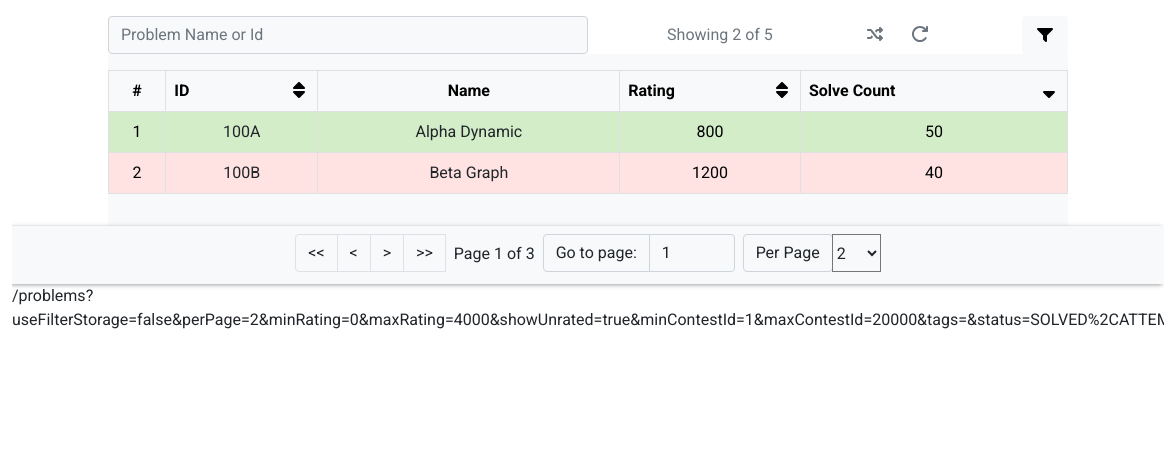
Scenario: next, last, first, and page size controls preserve row numbering
Click the button ">" at (387, 253), box 370,234 -> 404,272
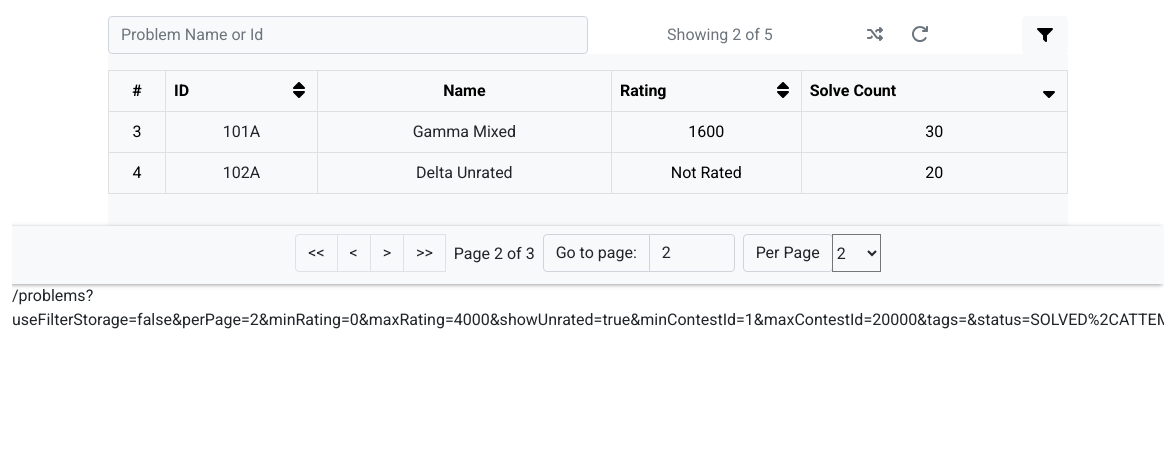
Expected: the cell "3" is shown, 108,112 -> 166,152
Click the button ">>" at (424, 253), box 403,234 -> 446,272
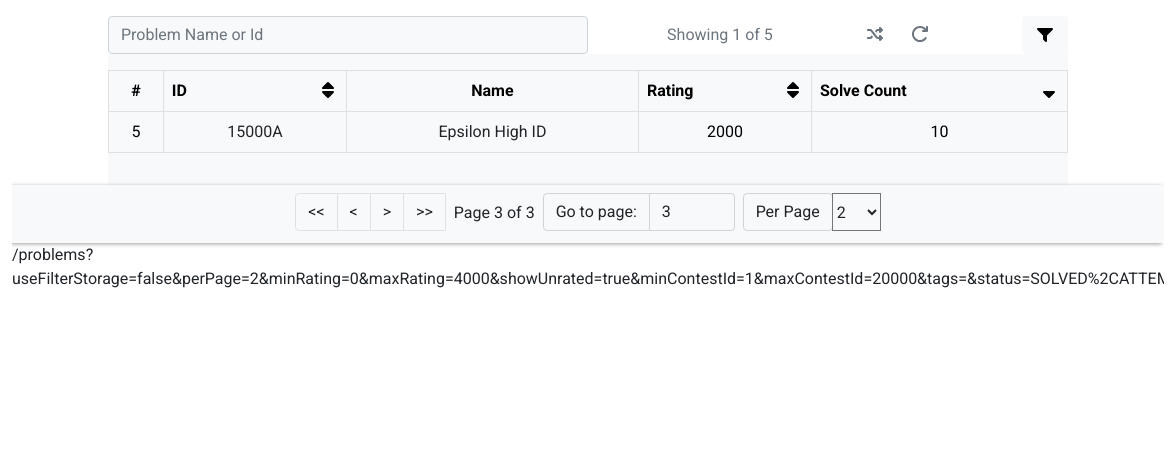
Click the button "<<" at (316, 212), box 295,193 -> 338,231
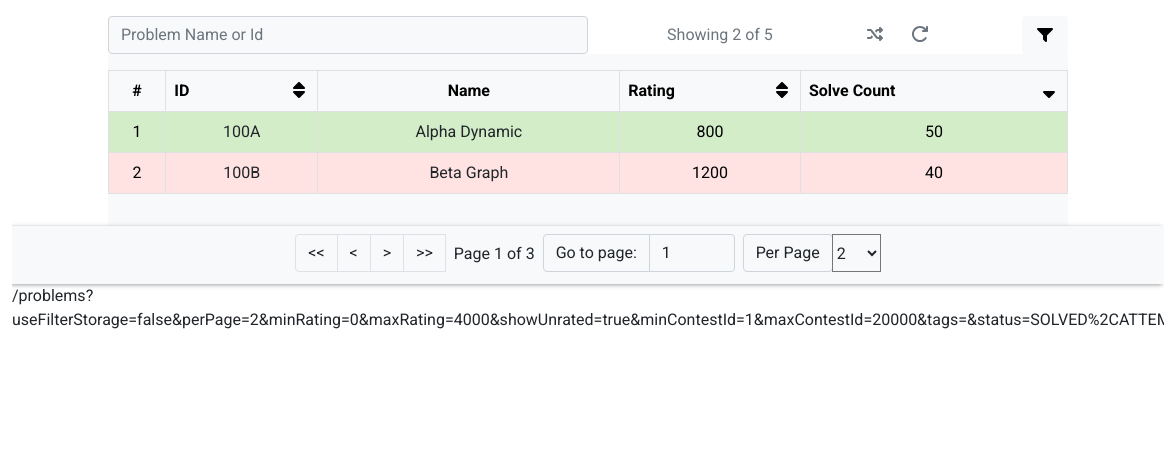
Select "5" in the dropdown labelled "Per Page" at (856, 253), box 832,234 -> 881,272
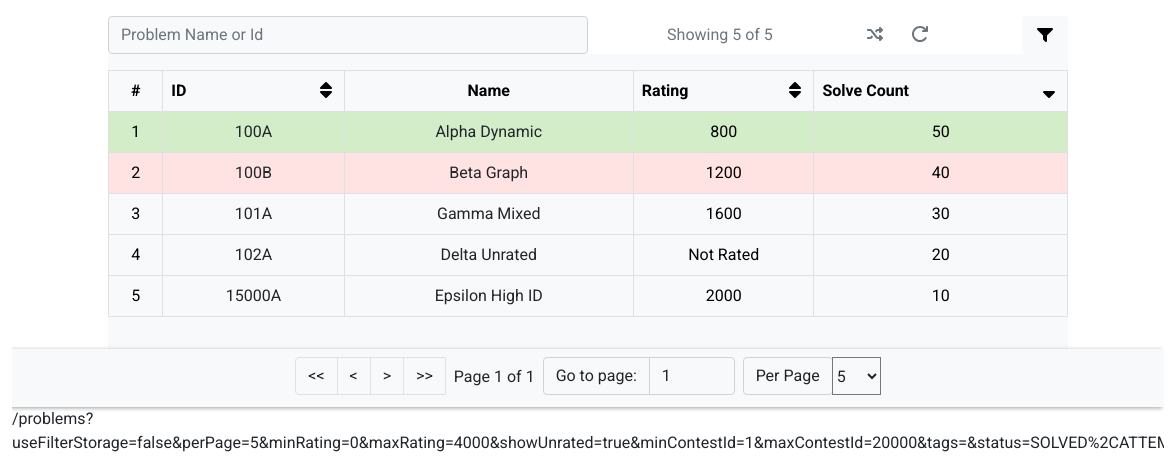
Expected: the text "Page 1 of 1" is shown, 454,367 -> 535,386
